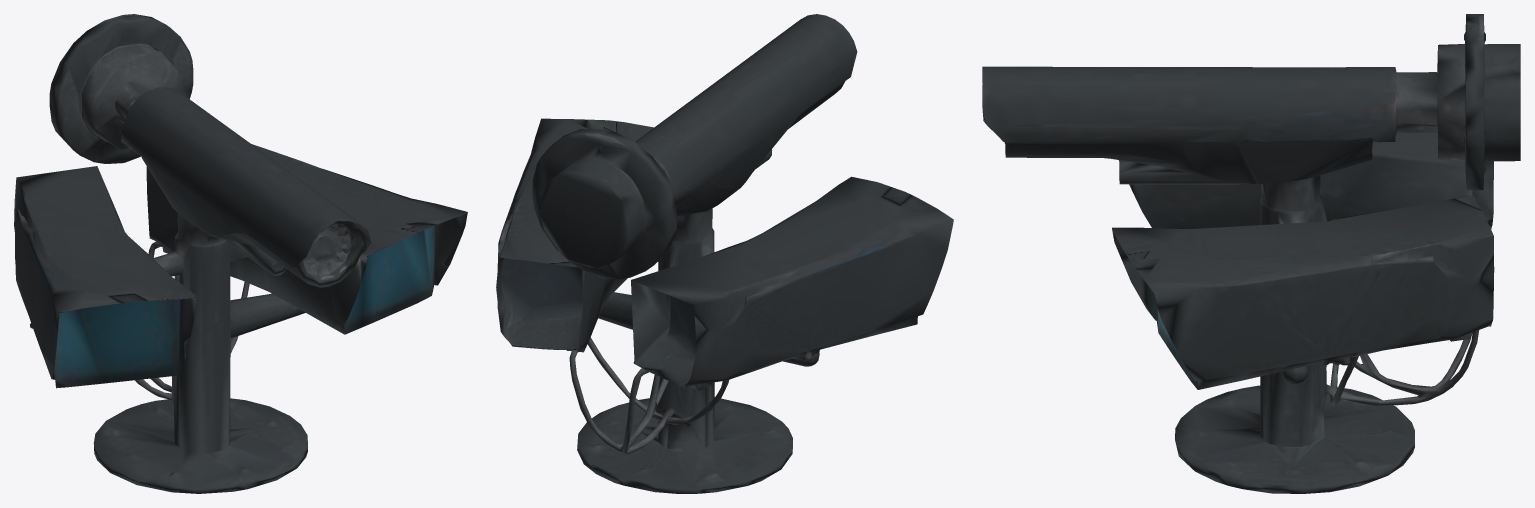
File: desk_monitors.glb
The picture shows the model from 3 angles, left to right: view 1: azimuth 30°, elevation 25°; view 2: azimuth 150°, elevation 25°; view 3: azimuth 270°, elevation 25°; orthographic projection. The views are drawn at different scales.
Size of the model in its own units: 1.89 by 1.64 by 1.9.
1 material, 1 textured.
